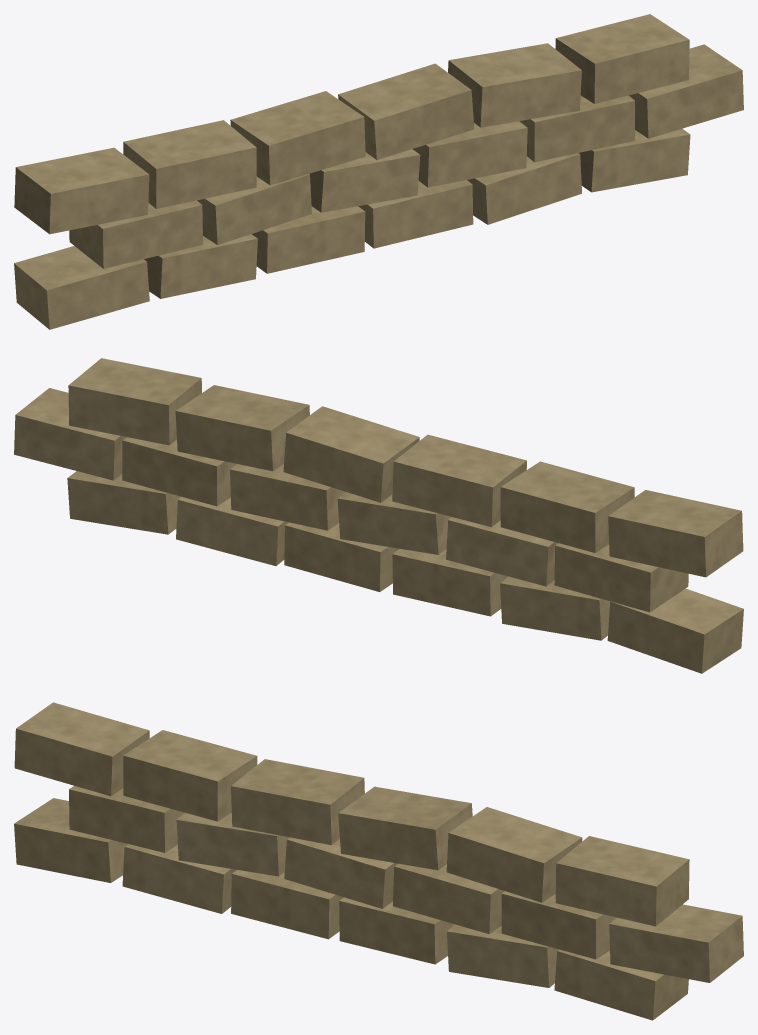
Rendered from sandbag_wall.fbx.
The picture shows the model from 3 angles, top to bottom: view 1: azimuth 30°, elevation 25°; view 2: azimuth 150°, elevation 25°; view 3: azimuth 330°, elevation 25°; orthographic projection.
Visible parts, largest first — view 1: SandbagWall; view 2: SandbagWall; view 3: SandbagWall.
Part boxes in pixels (<box>): SandbagWall: <box>14,14,743,329</box>; SandbagWall: <box>14,358,743,673</box>; SandbagWall: <box>14,702,743,1020</box>.
Size of the model in its own units: 4 by 0.7585 by 0.3895.
